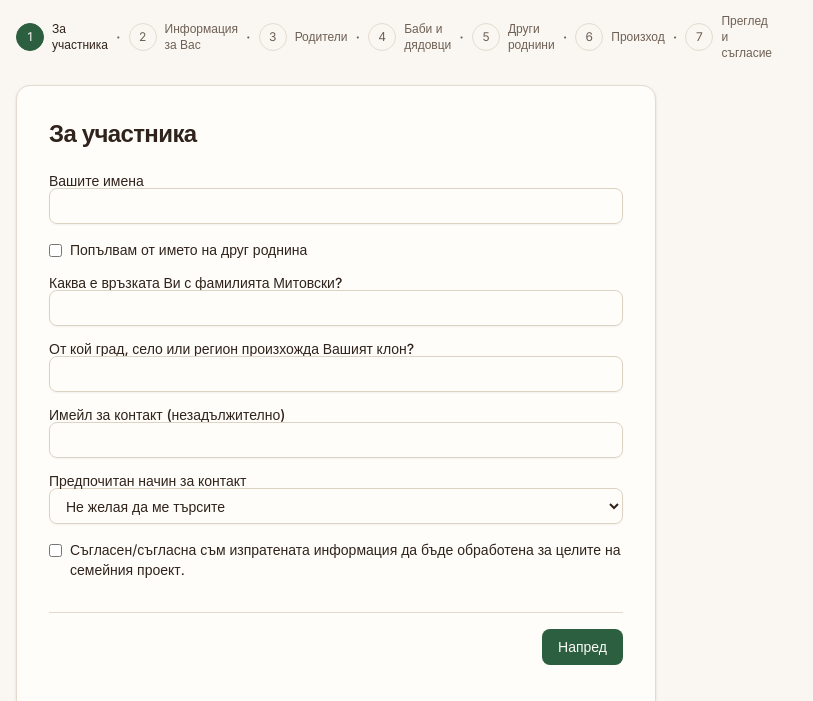
step 2 UX (filling for yourself) › asks about the other person (with living status) when filling on their behalf
Type "Мария Попълваща" into the field labelled "Вашите имена" at x=336, y=206, box [49, 188, 623, 224]
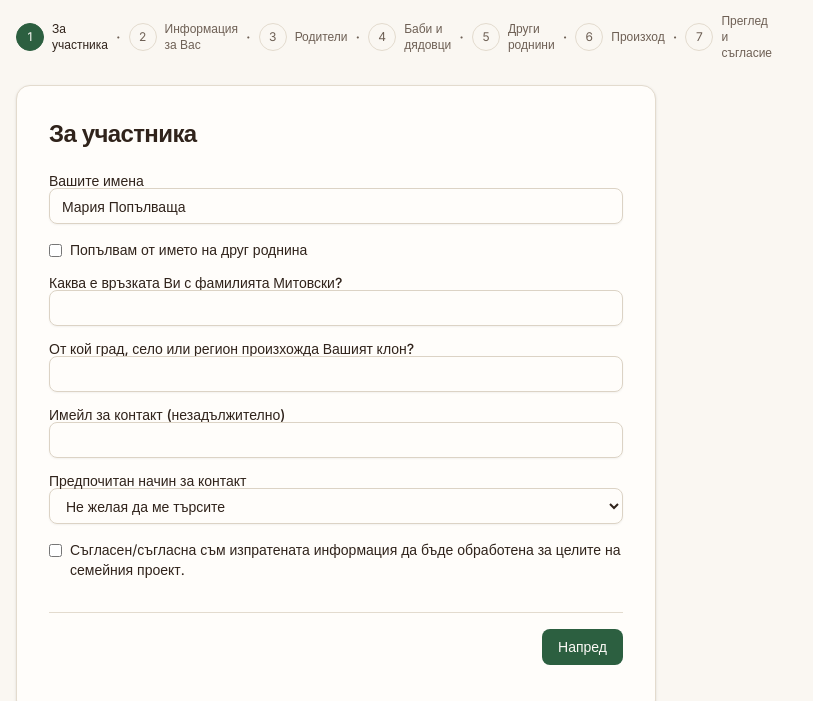
Type "внук" into the field labelled "Каква е връзката Ви с фамилията Митовски?" at x=336, y=308, box [49, 290, 623, 326]
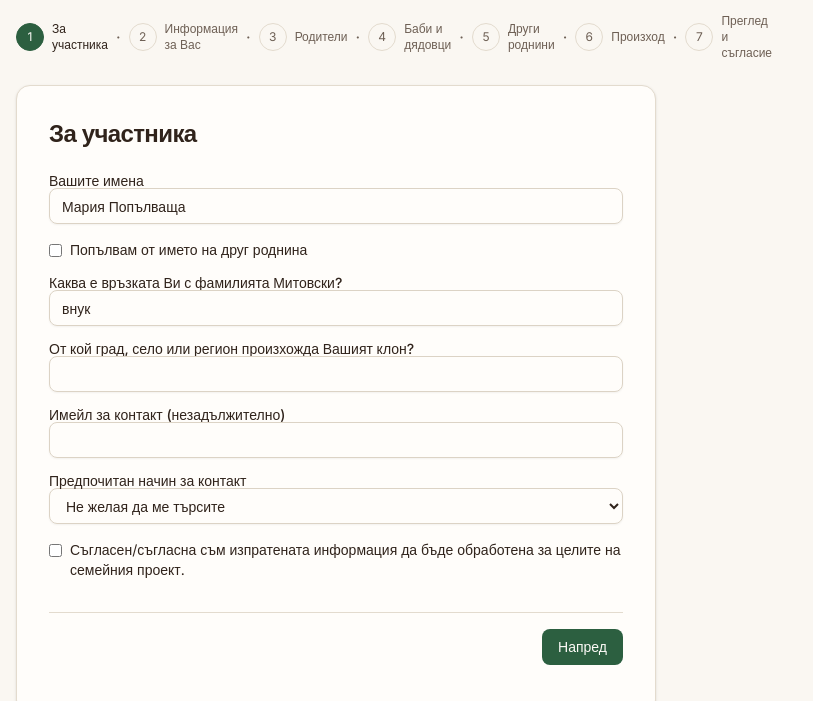
Click the checkbox labelled "Попълвам от името на друг роднина" at x=56, y=250, box [49, 244, 62, 256]
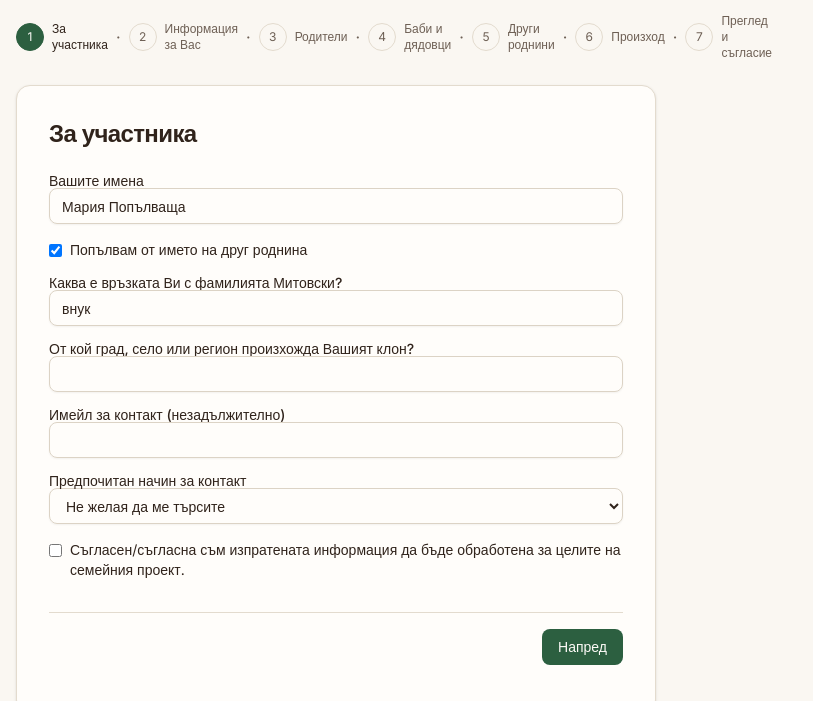
Click the checkbox labelled "Съгласен/съгласна съм изпратената информация" at x=56, y=550, box [49, 544, 62, 557]
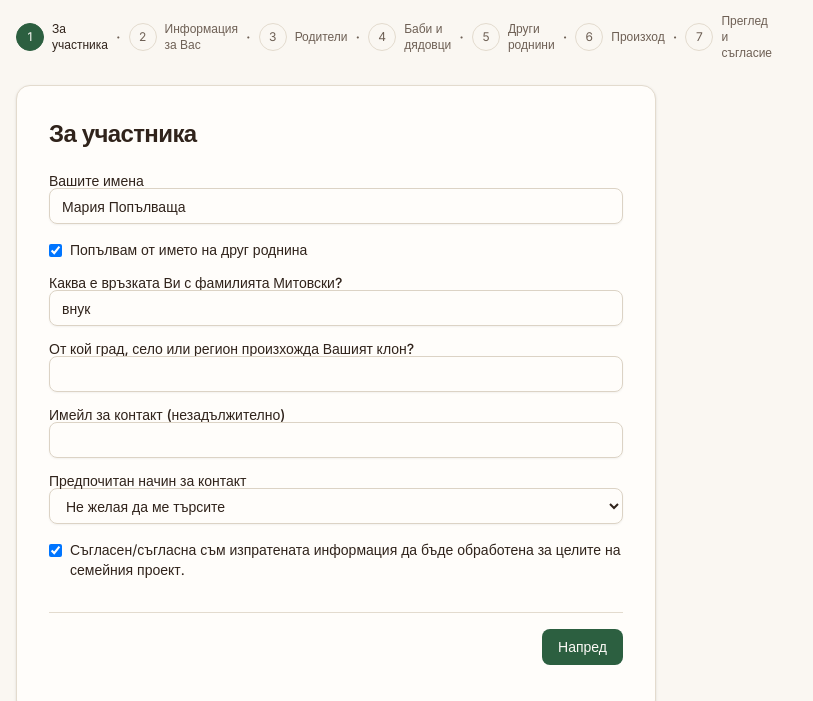
Click the button "Напред" at x=583, y=647, box [542, 629, 623, 665]
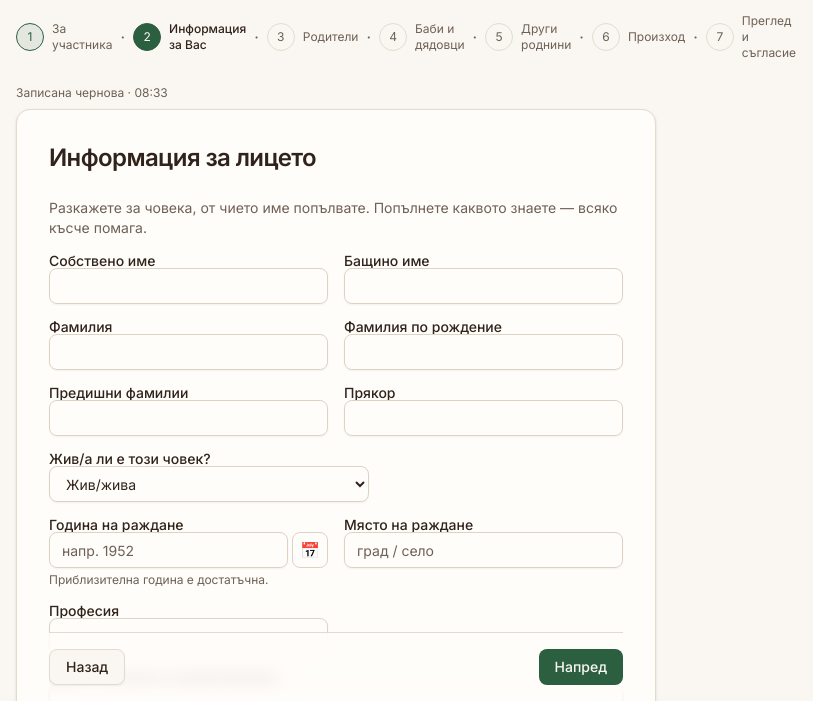
Result: the heading "Информация за лицето" is shown at [49, 143, 316, 172]
Result: the field labelled "Собствено име" is empty at [49, 268, 328, 304]
Result: the dropdown labelled "Жив/а ли е този човек?" is shown at [49, 466, 369, 502]
